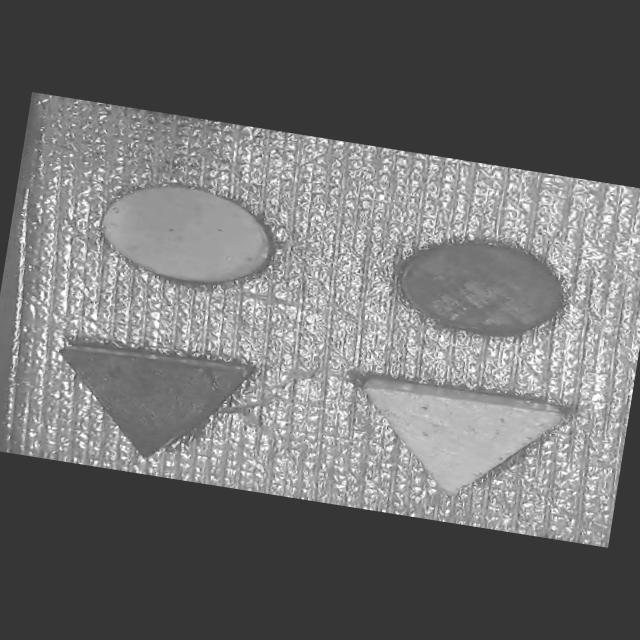btriangle: (32, 324, 274, 485)
rcircle: (380, 220, 576, 358)
ycircle: (70, 166, 322, 308)
ytriangle: (316, 350, 610, 527)
